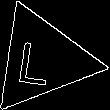L_N: (22, 32, 62, 87)
